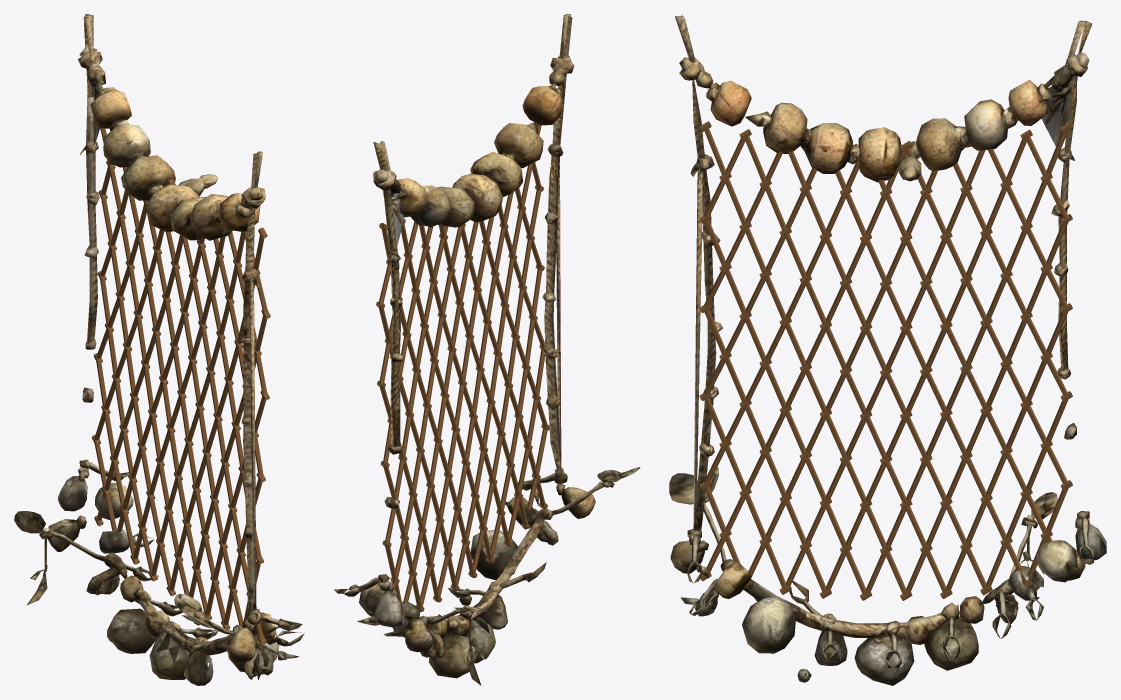
The model's file is filet.glb.
3 renders of one model, left to right at view 1: azimuth 30°, elevation 25°; view 2: azimuth 150°, elevation 25°; view 3: azimuth 270°, elevation 25°, orthographic. The views are drawn at different scales.
Visible parts, largest first — view 1: tripo_node_9220441d-2e4a-4391-93a8-c7ee17517e84, Open fishing net mesh; view 2: tripo_node_9220441d-2e4a-4391-93a8-c7ee17517e84, Open fishing net mesh; view 3: Open fishing net mesh, tripo_node_9220441d-2e4a-4391-93a8-c7ee17517e84.
Boxes of the visible parts, left/top/right/bottom form: tripo_node_9220441d-2e4a-4391-93a8-c7ee17517e84: left=14, top=14, right=304, bottom=685; Open fishing net mesh: left=91, top=127, right=270, bottom=644; tripo_node_9220441d-2e4a-4391-93a8-c7ee17517e84: left=334, top=14, right=640, bottom=685; Open fishing net mesh: left=376, top=124, right=549, bottom=613; Open fishing net mesh: left=699, top=121, right=1072, bottom=600; tripo_node_9220441d-2e4a-4391-93a8-c7ee17517e84: left=669, top=15, right=1106, bottom=685.
Size of the model in its own units: 0.248 by 0.998 by 0.5996.
2 materials, 2 textured.
